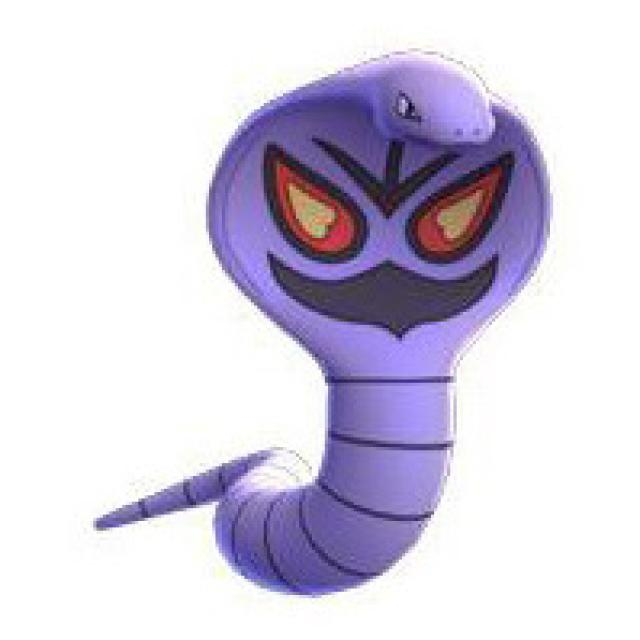Arbok: (202, 52, 555, 601)
